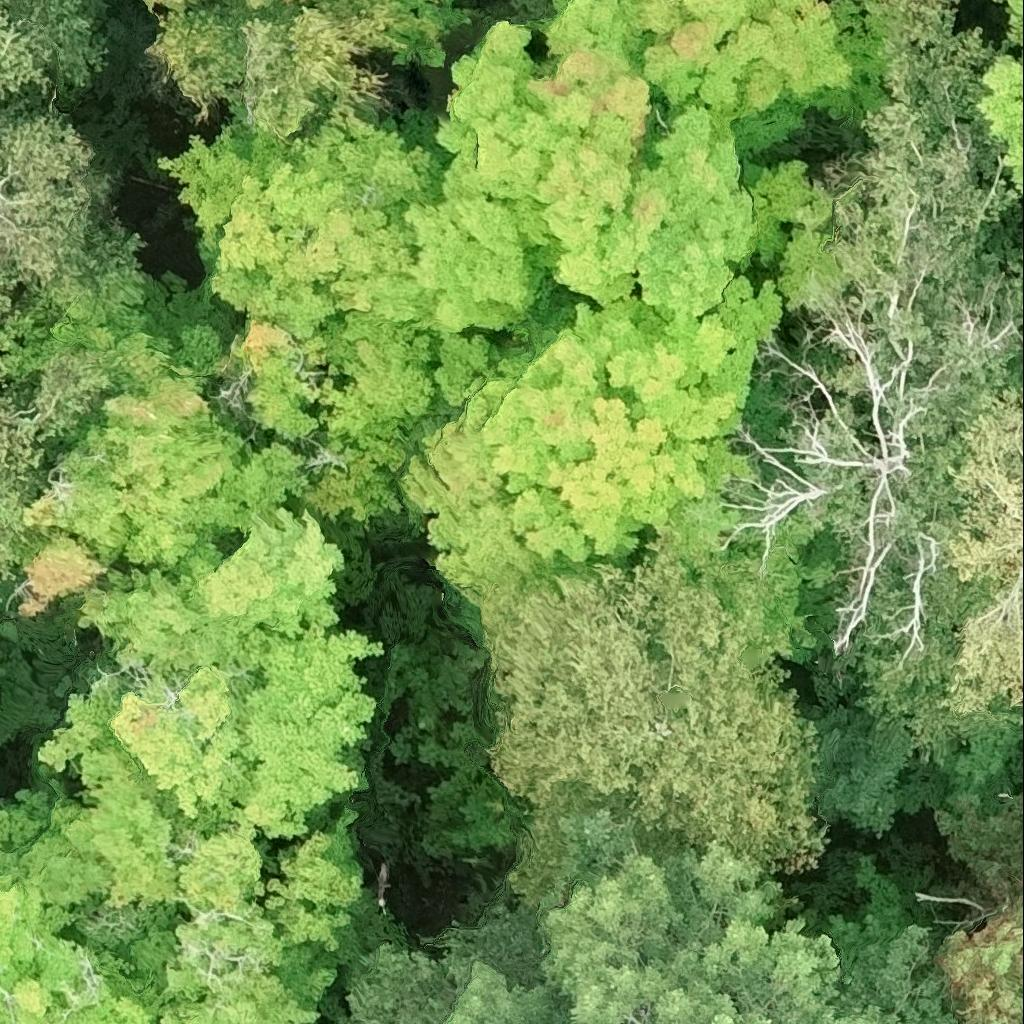crown: (0, 507, 408, 1023), (161, 122, 602, 433), (320, 808, 954, 1023), (441, 0, 849, 320), (477, 544, 830, 906), (403, 283, 785, 605), (12, 259, 306, 611), (747, 282, 927, 661), (153, 0, 402, 147), (947, 379, 1023, 718), (0, 116, 141, 293), (0, 357, 106, 588), (940, 899, 1023, 1023), (0, 0, 94, 100), (975, 0, 1023, 166), (0, 291, 26, 377)
